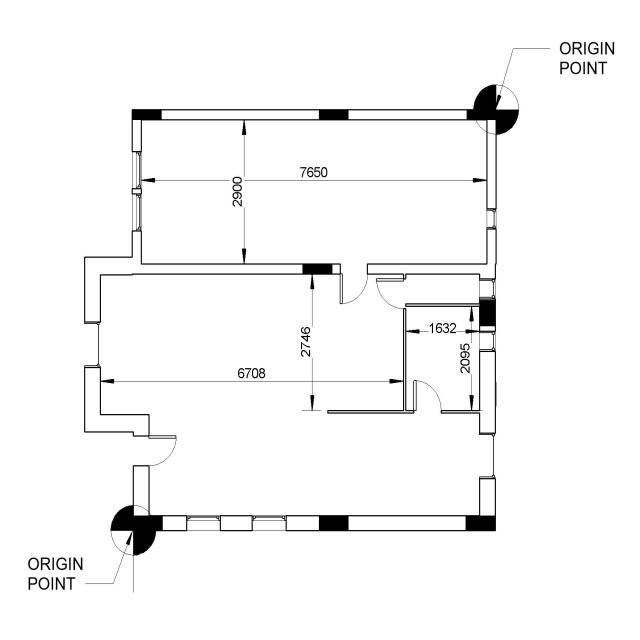Column: (318, 514, 350, 532), (133, 515, 163, 532), (465, 515, 496, 531), (479, 300, 496, 326), (302, 262, 333, 274), (318, 110, 350, 121), (132, 109, 162, 120), (465, 110, 496, 120)
Door: (136, 434, 180, 469), (338, 266, 369, 308), (412, 378, 444, 416), (374, 277, 406, 311)
Window: (129, 147, 147, 238), (82, 310, 103, 383), (477, 429, 498, 483), (184, 514, 222, 533), (250, 514, 288, 533), (478, 329, 498, 358), (483, 204, 501, 233), (479, 278, 496, 298)
